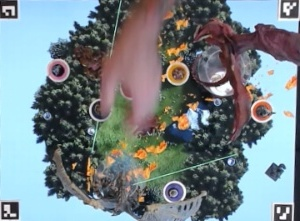blue: (85, 98, 111, 122)
orange: (247, 97, 278, 124)
pink: (46, 56, 72, 84)
red: (116, 77, 141, 100)
violet: (160, 177, 191, 203)
yellow: (164, 59, 191, 84)
